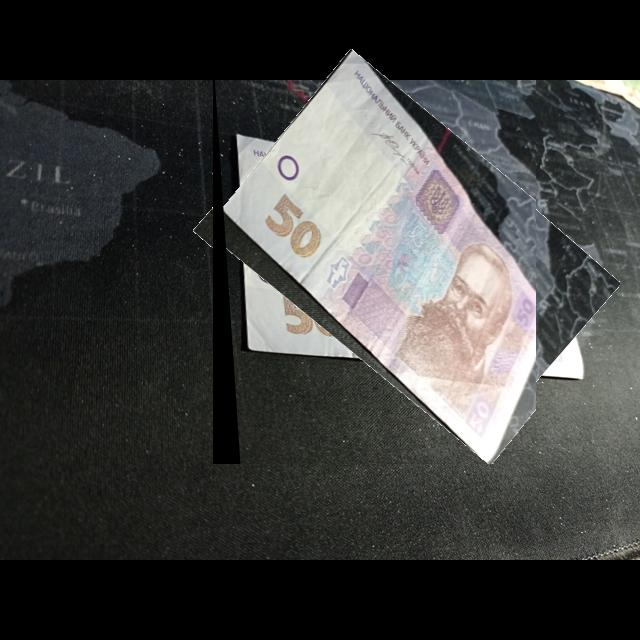50uah: (221, 52, 537, 465)
